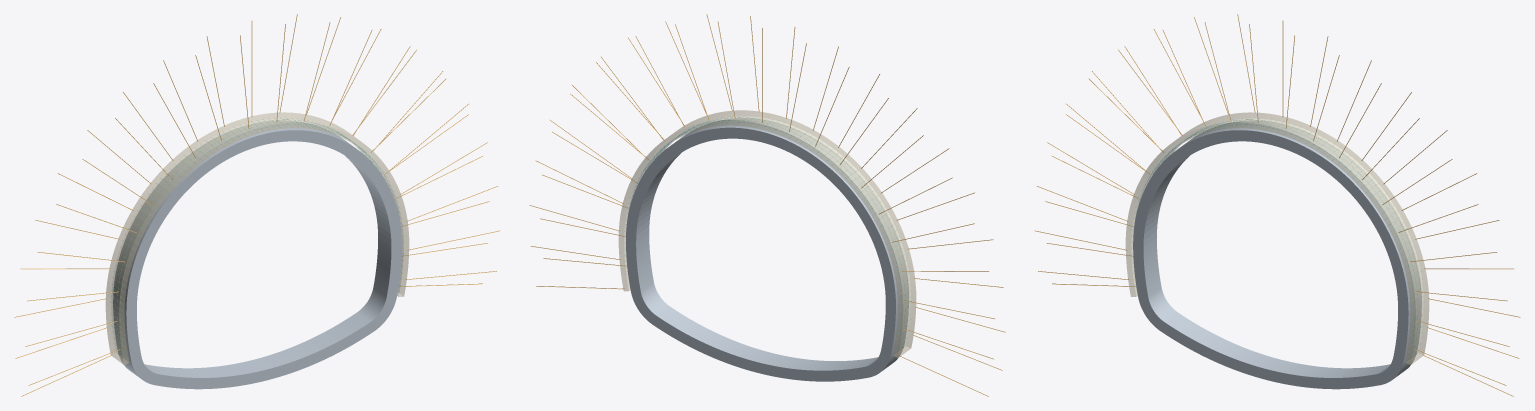
File: ZZ-IVc_support_1m.glb
The picture shows the model from 3 angles, left to right: view 1: azimuth 30°, elevation 25°; view 2: azimuth 150°, elevation 25°; view 3: azimuth 330°, elevation 25°; orthographic projection.
Parts seen in each view (by area): view 1: secondaryLining, primarySupportConcrete; view 2: secondaryLining, primarySupportConcrete; view 3: secondaryLining, primarySupportConcrete.
Part boxes in pixels (x1=…): secondaryLining: x1=113, y1=120, x2=401, y2=389; primarySupportConcrete: x1=105, y1=112, x2=409, y2=364; secondaryLining: x1=626, y1=118, x2=908, y2=381; primarySupportConcrete: x1=618, y1=110, x2=916, y2=357; secondaryLining: x1=1133, y1=120, x2=1421, y2=389; primarySupportConcrete: x1=1125, y1=112, x2=1429, y2=364.
Size of the model in its own units: 20.53 by 14.52 by 1.
